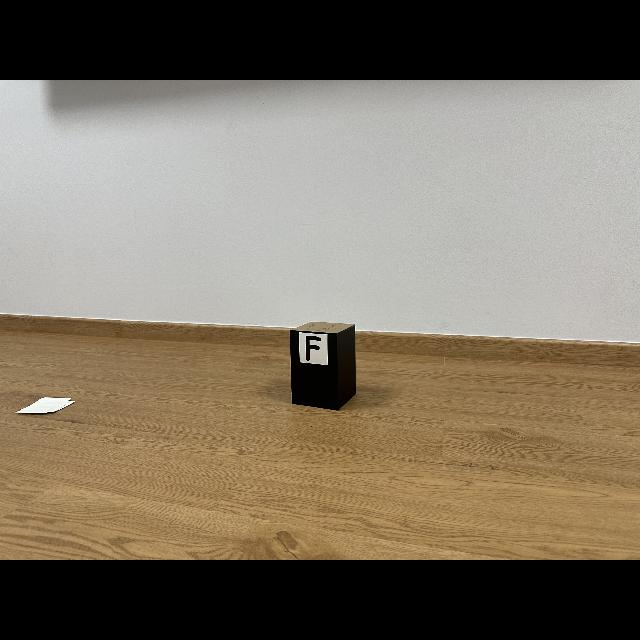F: (305, 336, 321, 361)
